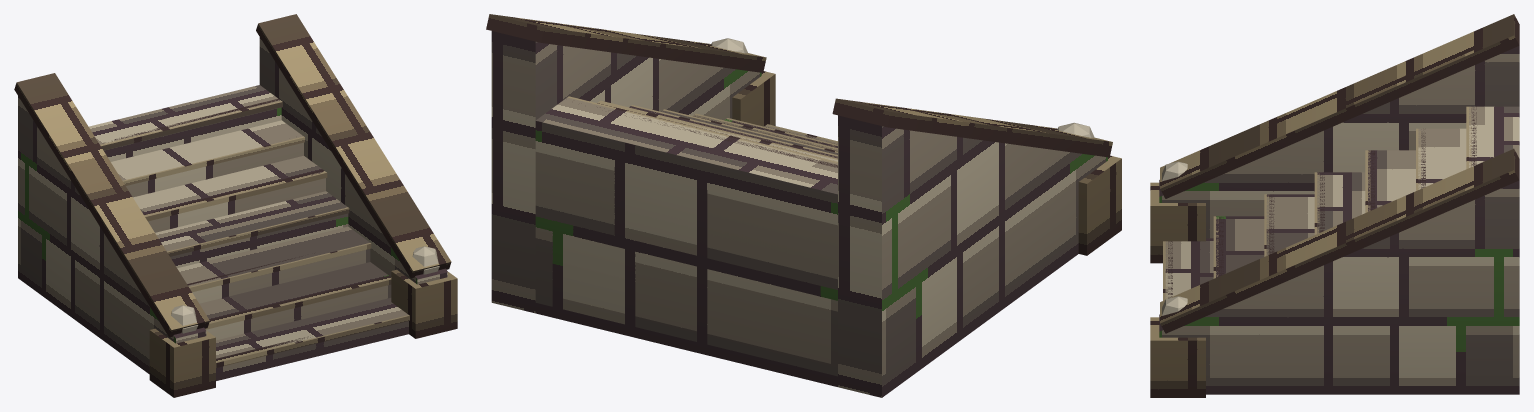
File: scene_stair_plat_g4.glb
3 views of the same model, side by side, from view 1: azimuth 30°, elevation 25°; view 2: azimuth 150°, elevation 25°; view 3: azimuth 270°, elevation 25° (orthographic). The views are drawn at different scales.
Visible parts, largest first — view 1: scene_stair_plat_g4; view 2: scene_stair_plat_g4; view 3: scene_stair_plat_g4.
Part boxes in pixels (box(x1,y1,x2,y2)): scene_stair_plat_g4: box(14, 14, 457, 397); scene_stair_plat_g4: box(486, 14, 1121, 397); scene_stair_plat_g4: box(1150, 14, 1519, 397).
Size of the model in its own units: 2.96 by 1.98 by 2.92.
Materials: 2 (1 with a texture image).
